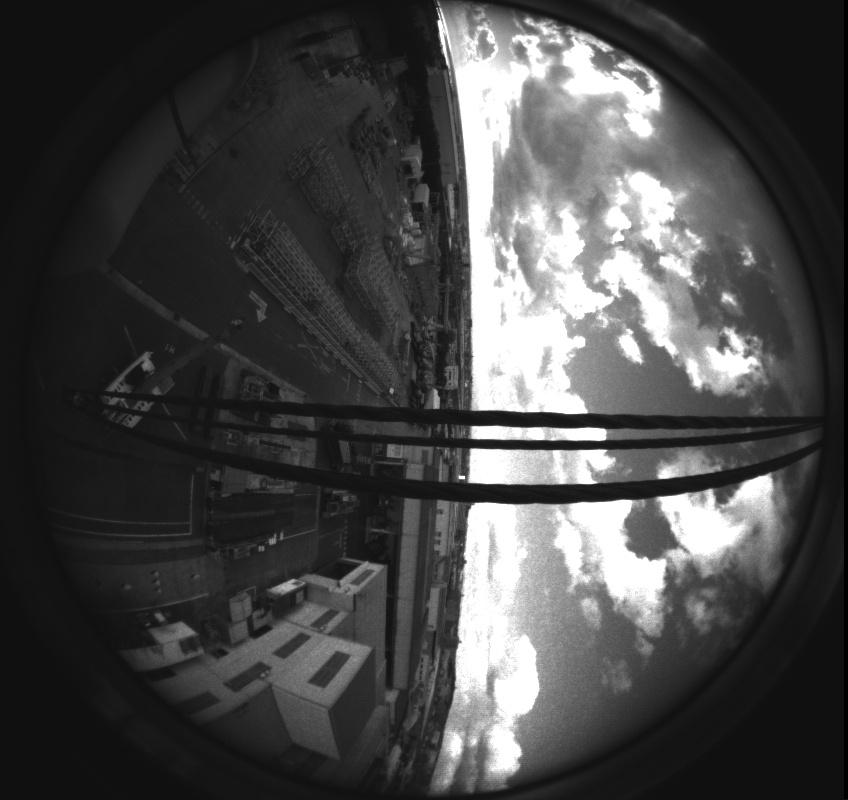rope: (23, 380, 845, 511)
